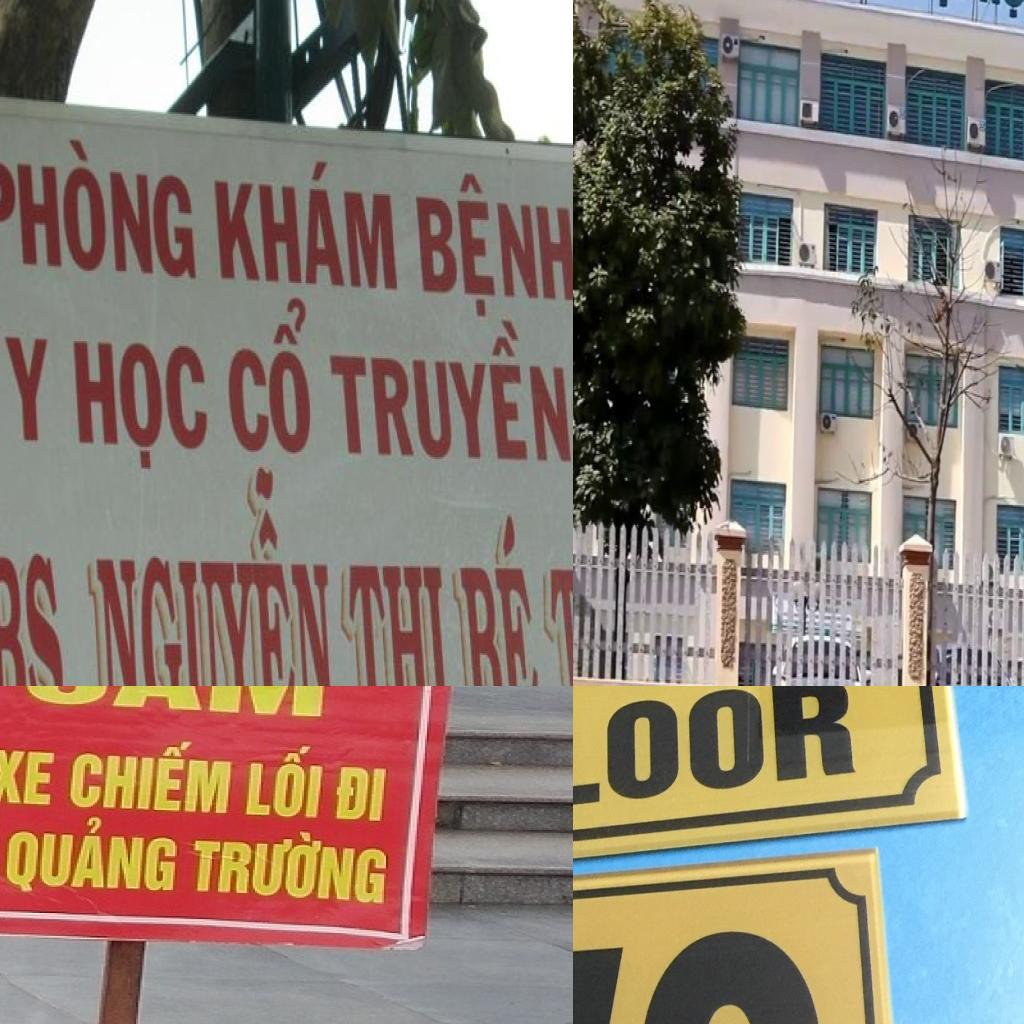text: (79, 472, 338, 686), (329, 314, 573, 476), (573, 686, 857, 818), (0, 117, 199, 296), (216, 154, 404, 298), (412, 163, 573, 317), (66, 331, 216, 472), (445, 506, 546, 686), (190, 824, 394, 911), (335, 550, 460, 686), (0, 814, 183, 899), (222, 296, 315, 460), (64, 738, 238, 819), (0, 532, 88, 686), (15, 686, 334, 725), (242, 736, 330, 824), (0, 322, 51, 457), (535, 538, 573, 686), (0, 742, 60, 812), (331, 759, 392, 827), (977, 0, 1024, 27)
